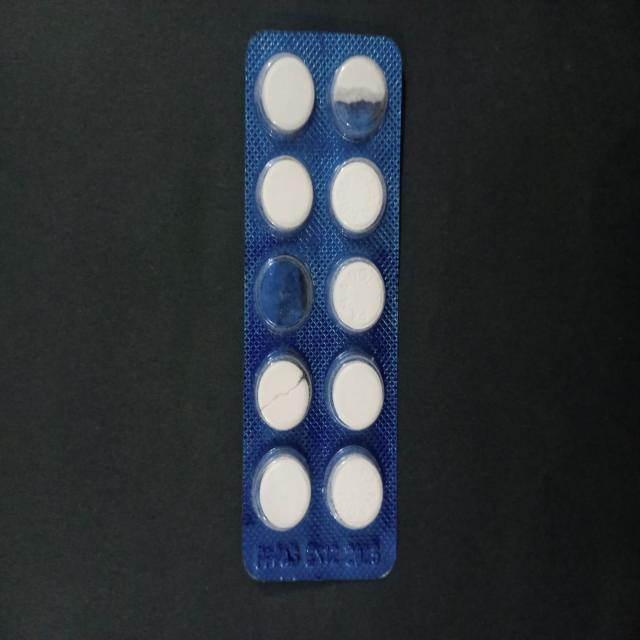defect: (327, 52, 392, 144), (252, 250, 316, 338), (252, 350, 316, 434)
